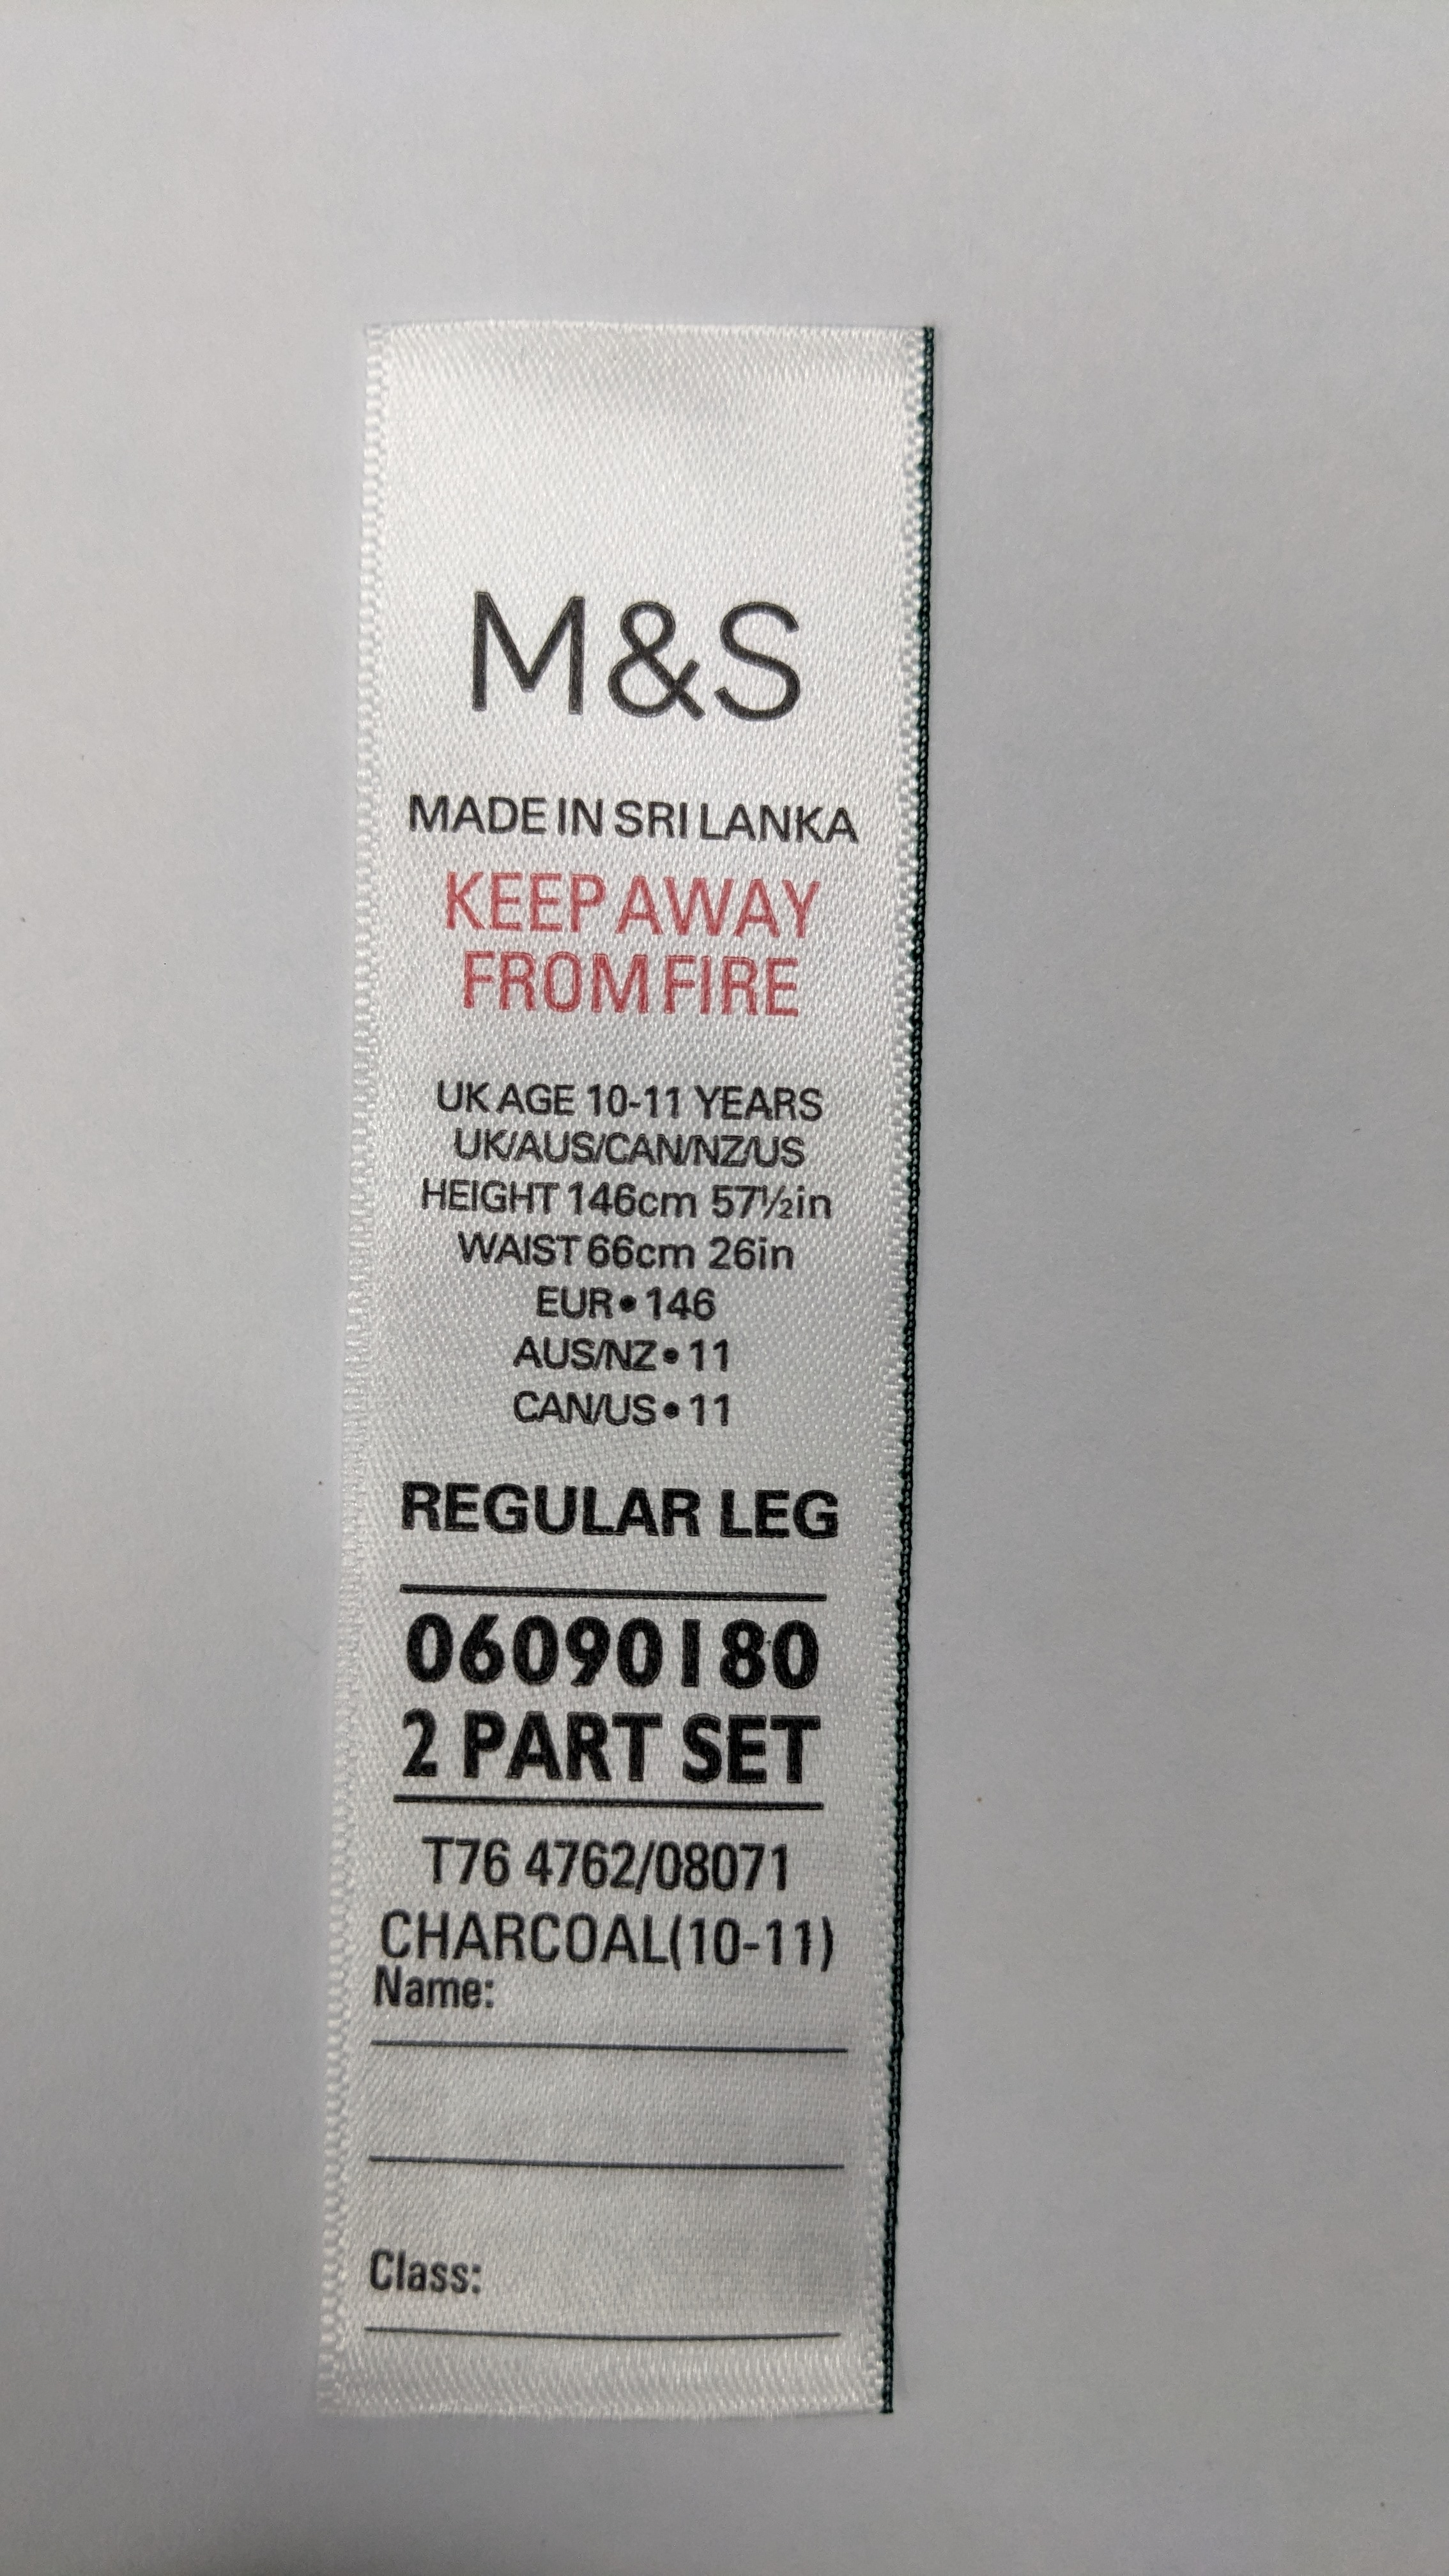Good_label: (329, 260, 943, 2426)
